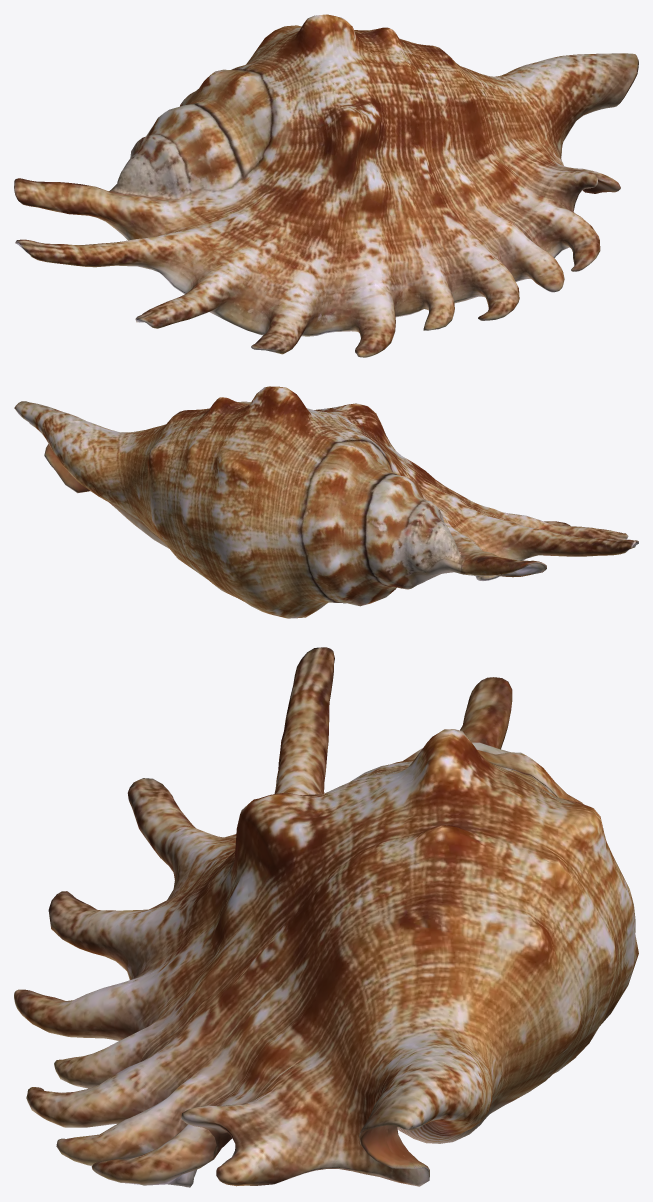
File: lambis_shell.glb
3 renders of one model, top to bottom at view 1: azimuth 30°, elevation 25°; view 2: azimuth 150°, elevation 25°; view 3: azimuth 270°, elevation 25°, orthographic. The views are drawn at different scales.
Parts seen in each view (by area): view 1: lambis_shell; view 2: lambis_shell; view 3: lambis_shell.
Boxes of the visible parts, bbox=[...] form: lambis_shell: bbox=[14, 14, 638, 357]; lambis_shell: bbox=[14, 386, 638, 618]; lambis_shell: bbox=[14, 647, 638, 1187].
Size of the model in its own units: 0.1395 by 0.0465 by 0.0745.
Materials: 1 (1 with a texture image).
